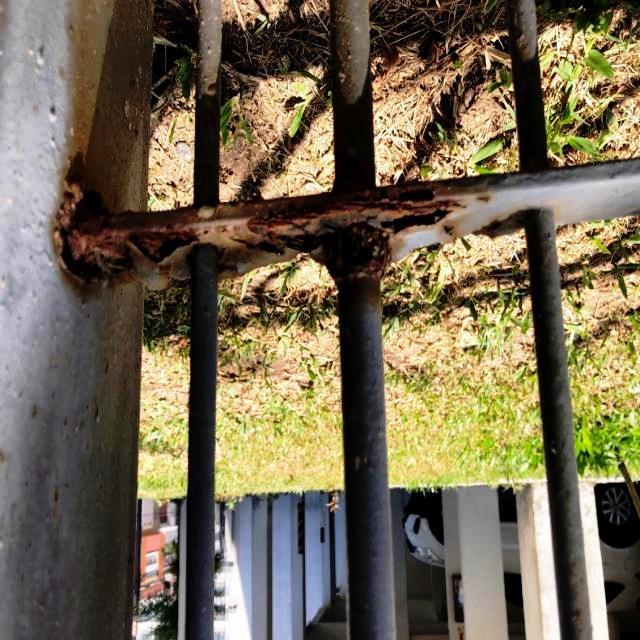Corrosion: (52, 160, 476, 297)
